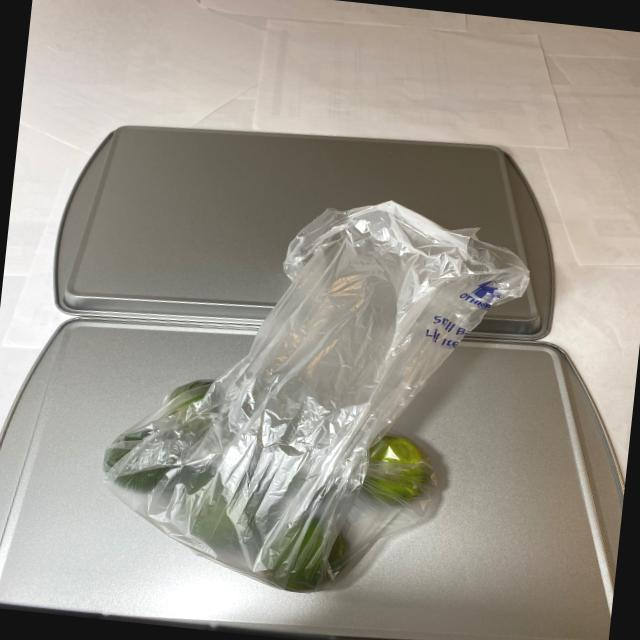lemon: (90, 367, 446, 598)
